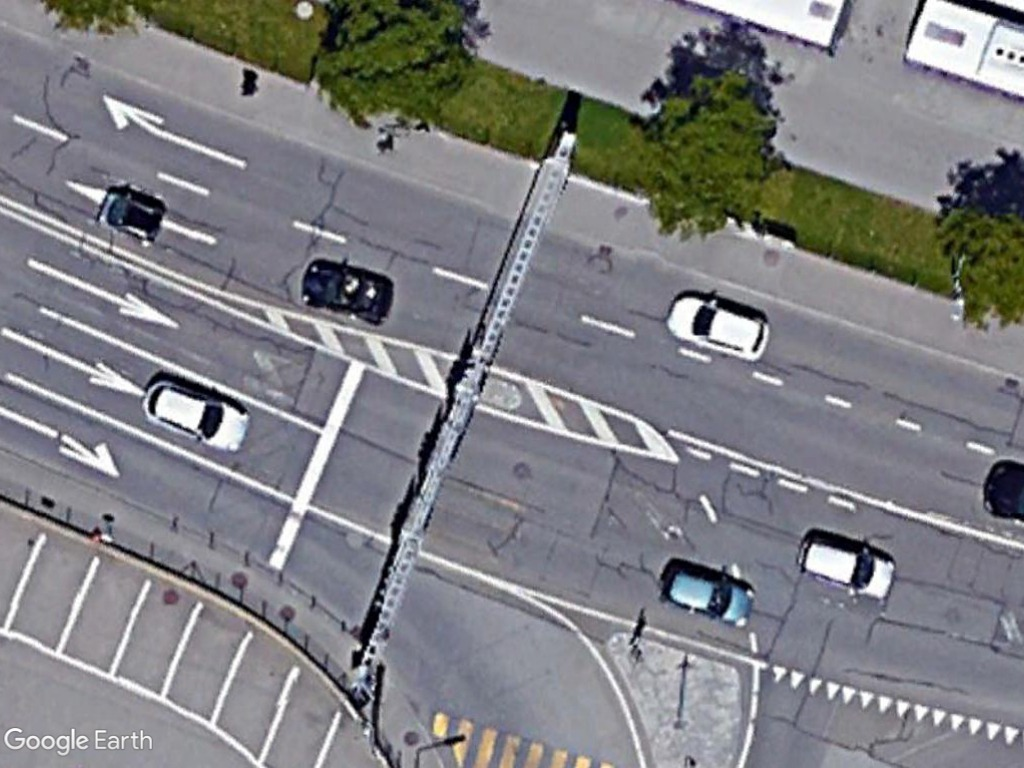car: (137, 368, 254, 456), (663, 291, 775, 363), (655, 557, 759, 632), (789, 537, 902, 600)
